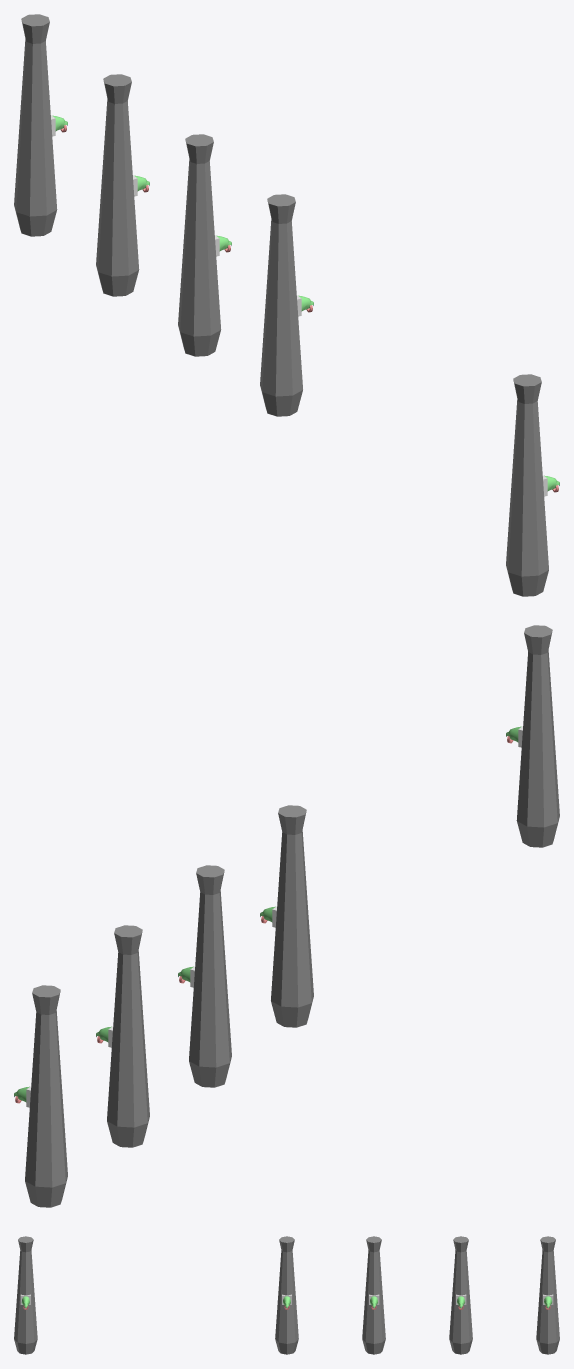
Rendered from SSQ_dungeon_S__SSQ_MRoom_pillar03.gltf.
3 renders of one model, top to bottom at view 1: azimuth 30°, elevation 25°; view 2: azimuth 150°, elevation 25°; view 3: azimuth 270°, elevation 25°, orthographic. The views are drawn at different scales.
Parts seen in each view (by area): view 1: SSQ_MRoom_pillar03; view 2: SSQ_MRoom_pillar03; view 3: SSQ_MRoom_pillar03.
Boxes of the visible parts, x1,y1,x2,y2 form: SSQ_MRoom_pillar03: (14,14,559,596); SSQ_MRoom_pillar03: (14,625,559,1207); SSQ_MRoom_pillar03: (14,1236,559,1354).
Bounding box in the file's own units: 0.935 × 3.61 × 16.06.
